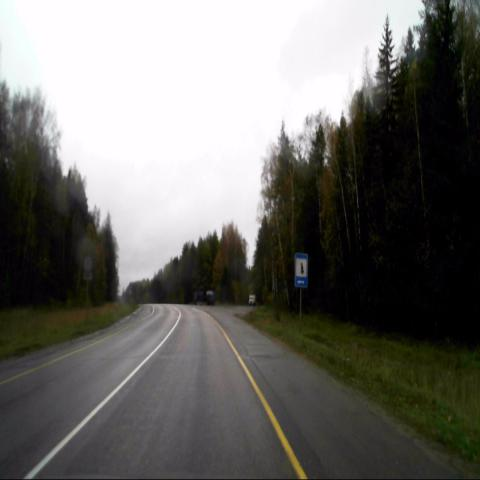7_11: (294, 254, 308, 290)
